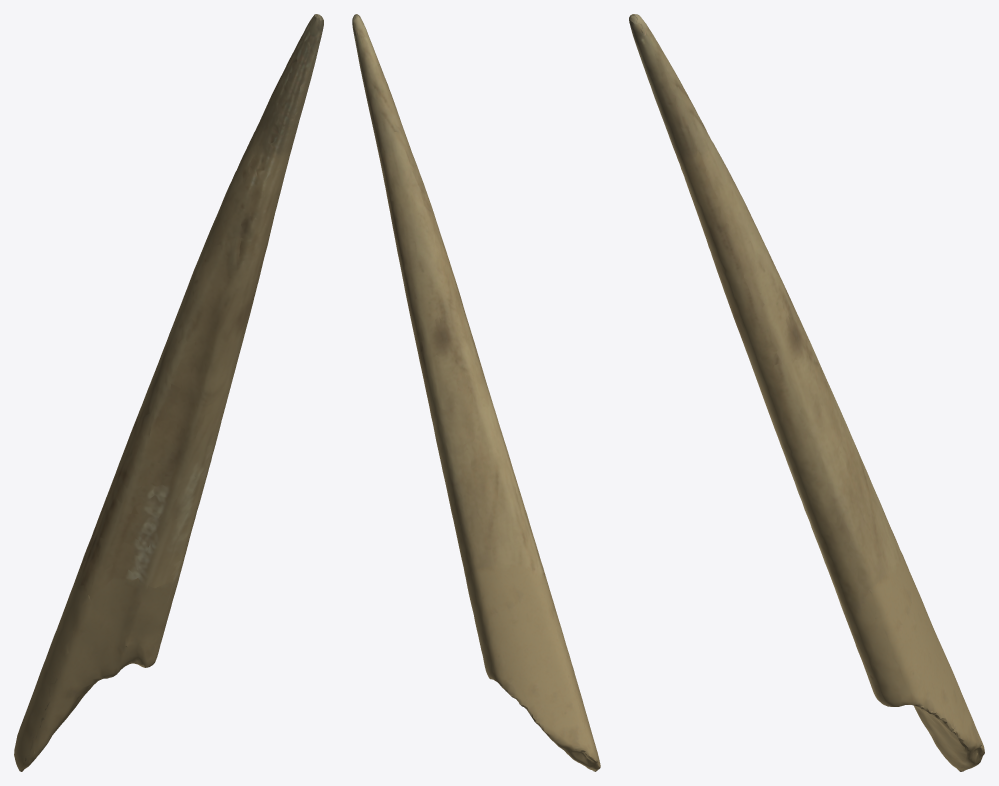
Rendered from awl-gltf.gltf.
3 views of the same model, side by side, from view 1: azimuth 30°, elevation 25°; view 2: azimuth 210°, elevation 25°; view 3: azimuth 270°, elevation 25° (orthographic). The views are drawn at different scales.
Parts seen in each view (by area): view 1: Default; view 2: Default; view 3: Default.
Part boxes in pixels (x1,y1,x2,y2): Default: (14, 14, 323, 771); Default: (352, 14, 600, 771); Default: (629, 14, 984, 771).
Bounding box in the file's own units: 136 × 814 × 322.
Materials: 1 (1 with a texture image).
